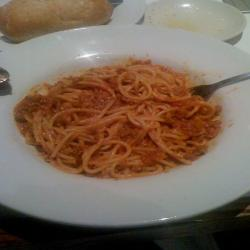bolonese_pasta: (13, 47, 224, 183)
